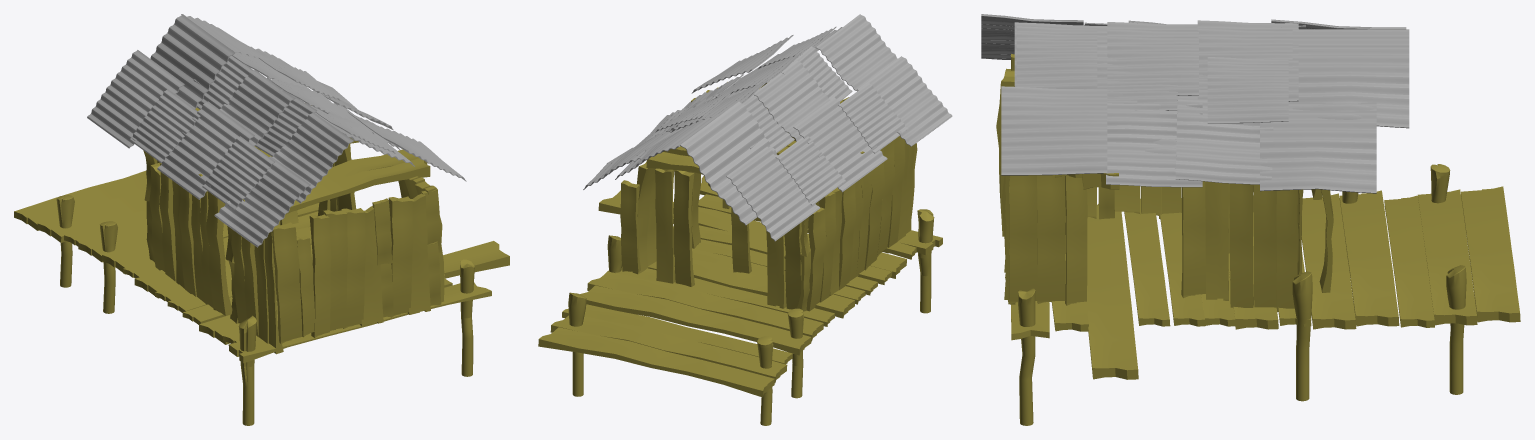
The model's file is obj_crappy_shack_uv.fbx.
3 views of the same model, side by side, from view 1: azimuth 30°, elevation 25°; view 2: azimuth 150°, elevation 25°; view 3: azimuth 270°, elevation 25° (orthographic). The views are drawn at different scales.
Visible parts, largest first — view 1: Crappy_shack_02; view 2: Crappy_shack_02; view 3: Crappy_shack_02.
Boxes of the visible parts, left/top/right/bottom form: Crappy_shack_02: left=14, top=14, right=509, bottom=425; Crappy_shack_02: left=538, top=14, right=952, bottom=425; Crappy_shack_02: left=981, top=14, right=1520, bottom=425.
Size of the model in its own units: 21.37 by 17.53 by 25.84.
